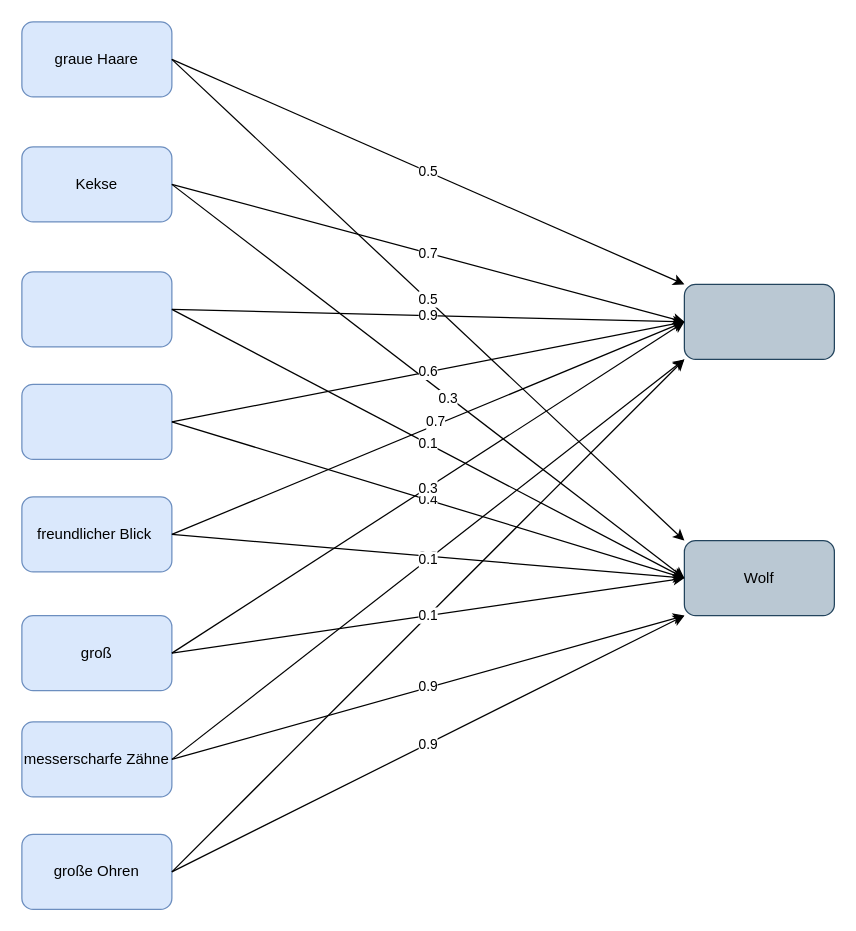
This 856x931 diagram has some shape labels left out. The centre of each missing label's shape, as x and y in pixels:
"Brille" goes at (x=96, y=421).
"faltiges Gesicht" goes at (x=96, y=309).
"Großmutter" goes at (x=758, y=321).
